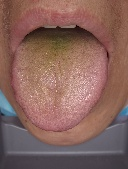tongue: (10, 39, 108, 133)
